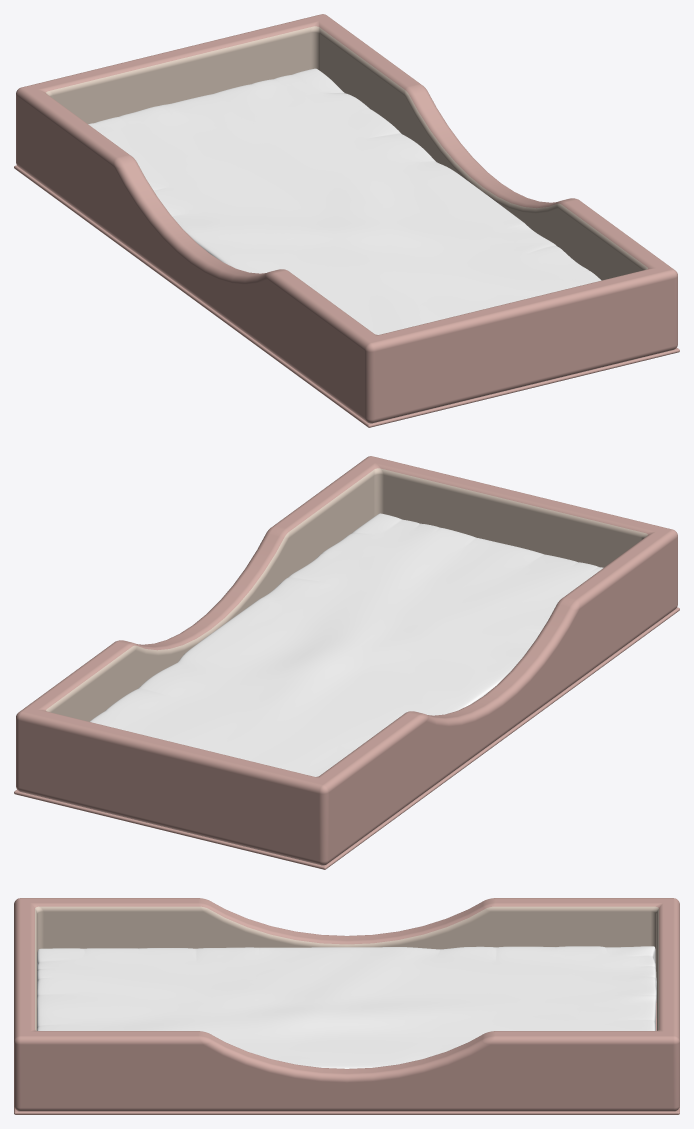
3 views of the same model, one above another, from view 1: azimuth 30°, elevation 25°; view 2: azimuth 150°, elevation 25°; view 3: azimuth 270°, elevation 25° (orthographic). The views are drawn at different scales.
Parts seen in each view (by area): view 1: root; view 2: root; view 3: root.
Boxes of the visible parts, x1,y1,x2,y2 form: root: (14,14,679,427); root: (14,456,679,869); root: (14,898,679,1114).
Size of the model in its own units: 1.02 by 0.2555 by 2.01.
